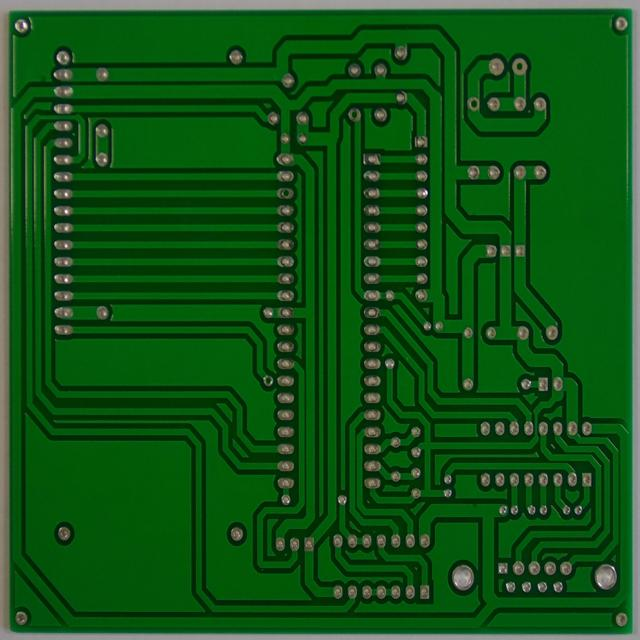missing_hole: (510, 55, 529, 76), (465, 93, 482, 114), (345, 104, 363, 123), (260, 370, 274, 390), (279, 184, 292, 201)
